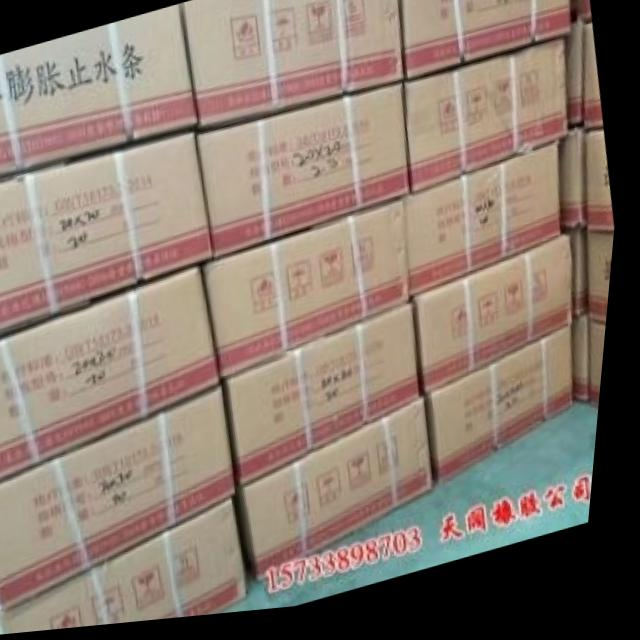box: (0, 389, 246, 611), (0, 267, 228, 485), (0, 135, 218, 336), (201, 88, 416, 263), (208, 204, 419, 382), (232, 307, 427, 494), (247, 405, 444, 585), (0, 9, 199, 179), (13, 501, 260, 635), (182, 0, 408, 135), (406, 46, 574, 200), (419, 246, 582, 399), (411, 154, 566, 308), (437, 335, 584, 493), (403, 0, 576, 89), (588, 139, 618, 245), (566, 237, 598, 327), (591, 237, 619, 338), (564, 33, 586, 141), (566, 139, 590, 237), (585, 32, 605, 140), (582, 323, 600, 415), (594, 334, 613, 420), (575, 0, 592, 33)
